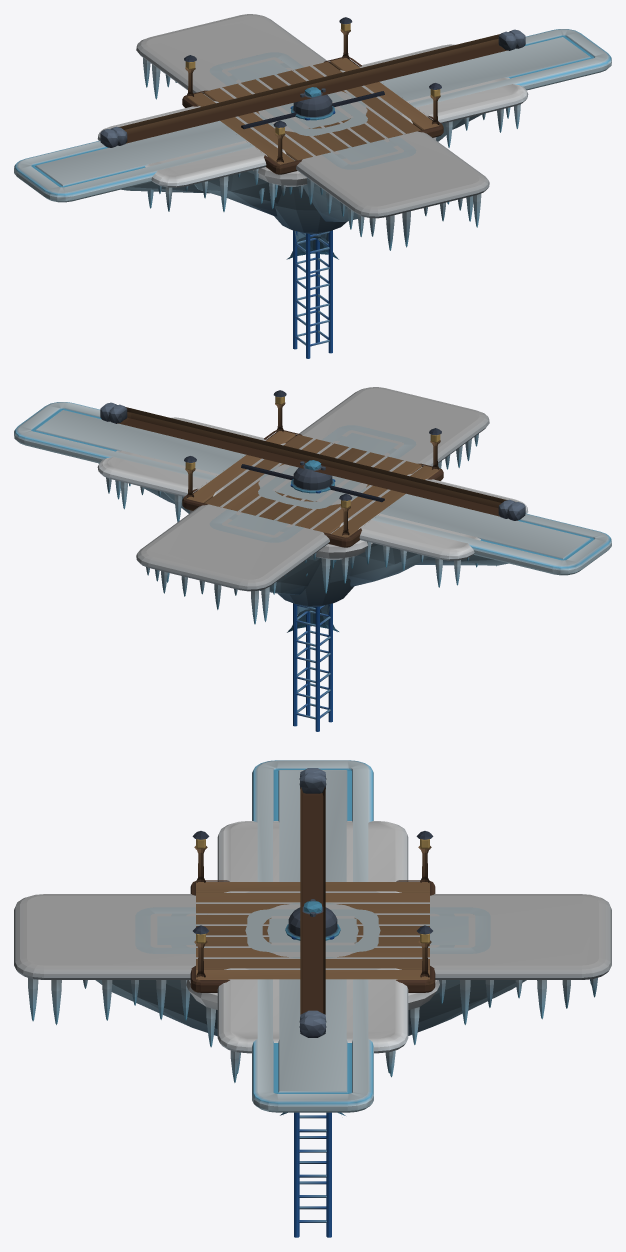
The model's file is glacier-3-D3PWcJ8g.glb.
3 views of the same model, one above another, from view 1: azimuth 30°, elevation 25°; view 2: azimuth 150°, elevation 25°; view 3: azimuth 270°, elevation 25° (orthographic). The views are drawn at different scales.
Parts seen in each view (by area): view 1: block_9x2x29#0, block_40x2x6_ice#1, pad_12x2x12#0, block_26x2x9#1, mount_13.8#0, mount_14.4#0, block_6x2x18_ice#0, truss_16#0, disc_12x1.5#0, barHub_11x1.2#0, block_5.5x2x7_ice#0, block_7x2x5#1 (+1 smaller); view 2: block_9x2x29#0, block_40x2x6_ice#1, pad_12x2x12#0, block_26x2x9#1, mount_13.8#0, mount_14.4#0, block_6x2x18_ice#0, truss_16#0, disc_12x1.5#0, barHub_11x1.2#0, block_5.5x2x7_ice#0, block_7x2x5#1 (+1 smaller); view 3: block_9x2x29#0, block_40x2x6_ice#1, pad_12x2x12#0, block_26x2x9#1, mount_14.4#0, block_6x2x18_ice#0, block_5.5x2x7_ice#0, truss_16#0, mount_13.8#0, disc_12x1.5#0, barHub_11x1.2#0, block_7x2x5#1.
Part boxes in pixels (box(x1,y1,x2,y2)): block_9x2x29#0: box(136, 14, 489, 250); block_40x2x6_ice#1: box(14, 29, 611, 202); pad_12x2x12#0: box(182, 17, 443, 208); block_26x2x9#1: box(97, 44, 528, 216); mount_13.8#0: box(110, 31, 516, 145); mount_14.4#0: box(100, 29, 525, 147); block_6x2x18_ice#0: box(209, 52, 416, 169); truss_16#0: box(290, 106, 335, 358); disc_12x1.5#0: box(231, 73, 402, 234); barHub_11x1.2#0: box(241, 87, 384, 129); block_5.5x2x7_ice#0: box(265, 93, 367, 135); block_7x2x5#1: box(258, 91, 367, 131); block_9x2x29#0: box(136, 387, 489, 624); block_40x2x6_ice#1: box(14, 402, 611, 575); pad_12x2x12#0: box(182, 390, 443, 593); block_26x2x9#1: box(97, 417, 528, 587); mount_13.8#0: box(109, 404, 515, 518); mount_14.4#0: box(100, 402, 525, 520); block_6x2x18_ice#0: box(209, 425, 416, 542); truss_16#0: box(290, 479, 335, 731); disc_12x1.5#0: box(223, 446, 394, 607); barHub_11x1.2#0: box(241, 460, 384, 502); block_5.5x2x7_ice#0: box(258, 466, 360, 508); block_7x2x5#1: box(258, 464, 367, 504); block_9x2x29#0: box(14, 894, 611, 1036); block_40x2x6_ice#1: box(252, 760, 373, 1112); pad_12x2x12#0: box(186, 831, 439, 1047); block_26x2x9#1: box(217, 821, 408, 1082); mount_14.4#0: box(299, 768, 326, 1037); block_6x2x18_ice#0: box(135, 907, 490, 953); block_5.5x2x7_ice#0: box(247, 909, 378, 951); truss_16#0: box(291, 935, 334, 1237); mount_13.8#0: box(299, 773, 326, 1022); disc_12x1.5#0: box(201, 891, 424, 969); barHub_11x1.2#0: box(285, 901, 340, 940); block_7x2x5#1: box(271, 904, 354, 956).
Size of the model in its own units: 40 by 19.05 by 29.36.
